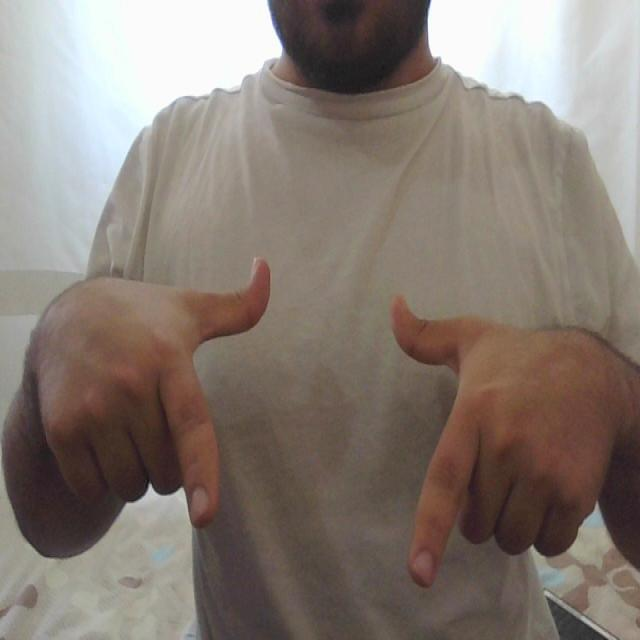Nerede: (157, 247, 493, 591)
